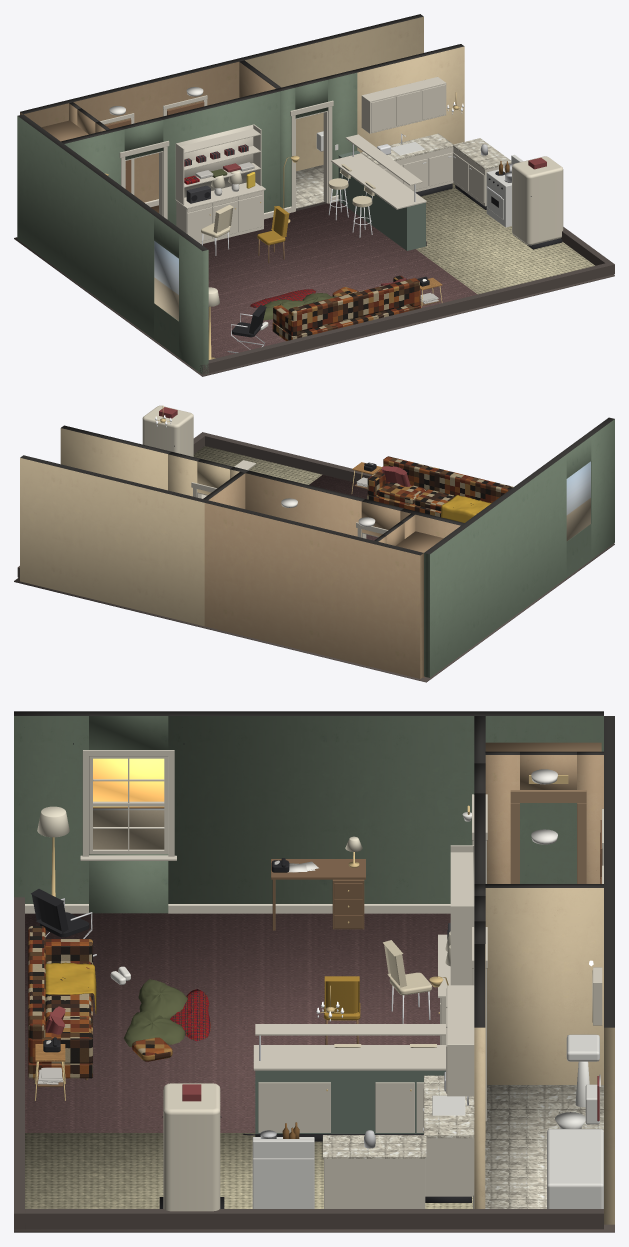
Rendered from room.glb.
3 views of the same model, one above another, from view 1: azimuth 30°, elevation 25°; view 2: azimuth 150°, elevation 25°; view 3: azimuth 270°, elevation 25° (orthographic). The views are drawn at different scales.
Parts seen in each view (by area): view 1: left_wall_3_ext, floor_living, furn_pf_cream_trim, floor_kitchen, back_wall_bath_0, back_wall_0, part_hall_2, part_kitchen_0, kerb_front_ext, furn_pf_patchwork, fridge_body, left_wall_0_ext (+27 smaller); view 2: back_wall_0_ext, back_wall_bath_0_ext, left_wall_3_ext, furn_pf_patchwork, part_kitchen_0, part_hall_2_skin, left_wall_0_ext, fridge_body, kerb_front, subfloor_ext, floor_kitchen, outside_living (+16 smaller); view 3: left_wall_3, floor_living, furn_pf_cream_trim, hall_bath_wall_0_skin, floor_kitchen, furn_pf_white_enamel, left_wall_0, kerb_right_ext, floor_bath, fridge_body, furn_pf_patchwork, bar_body (+29 smaller).
Part boxes in pixels (x1,y1,x2,y2): left_wall_3_ext: (17, 114, 159, 338); floor_living: (201, 201, 477, 358); furn_pf_cream_trim: (175, 77, 510, 244); floor_kitchen: (416, 183, 594, 294); back_wall_bath_0: (245, 16, 423, 171); back_wall_0: (20, 62, 239, 202); part_hall_2: (160, 89, 279, 225); part_kitchen_0: (354, 44, 464, 153); kerb_front_ext: (200, 262, 614, 374); furn_pf_patchwork: (272, 275, 421, 340); fridge_body: (512, 156, 563, 245); left_wall_0_ext: (179, 232, 208, 374); back_wall_0_ext: (204, 500, 423, 678); back_wall_bath_0_ext: (20, 455, 207, 626); left_wall_3_ext: (424, 453, 566, 677); furn_pf_patchwork: (367, 456, 513, 517); part_kitchen_0: (60, 425, 170, 490); part_hall_2_skin: (245, 473, 361, 537); left_wall_0_ext: (586, 417, 614, 559); fridge_body: (142, 405, 193, 456); kerb_front: (205, 436, 370, 482); subfloor_ext: (14, 543, 614, 682); floor_kitchen: (193, 446, 322, 484); outside_living: (566, 461, 590, 541); left_wall_3: (168, 716, 603, 903); floor_living: (25, 913, 450, 1132); furn_pf_cream_trim: (80, 750, 602, 1208); hall_bath_wall_0_skin: (485, 888, 603, 1084); floor_kitchen: (25, 1133, 472, 1208); furn_pf_white_enamel: (252, 1034, 603, 1208); left_wall_0: (14, 716, 88, 903); kerb_right_ext: (25, 1209, 603, 1229); floor_bath: (485, 1085, 603, 1208); fridge_body: (163, 1083, 220, 1211); furn_pf_patchwork: (28, 926, 92, 1078); bar_body: (255, 1070, 445, 1133).
Size of the model in its own units: 9.6 by 2.8 by 7.6.
40 materials, 15 textured.
